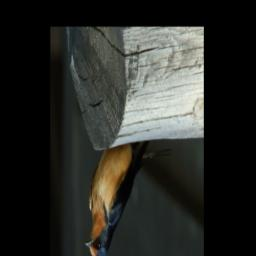Swallow: (84, 141, 173, 256)
